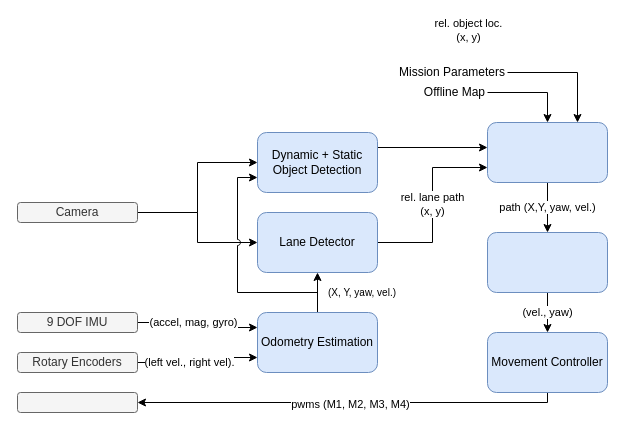
This 625x430 diagram has some shape labels left out. Each missing label, with the box of its shape:
Behaviour Selection FSM: (486, 122, 608, 182)
Motion Planning: (486, 232, 608, 292)
Motors (x4): (16, 392, 138, 412)
